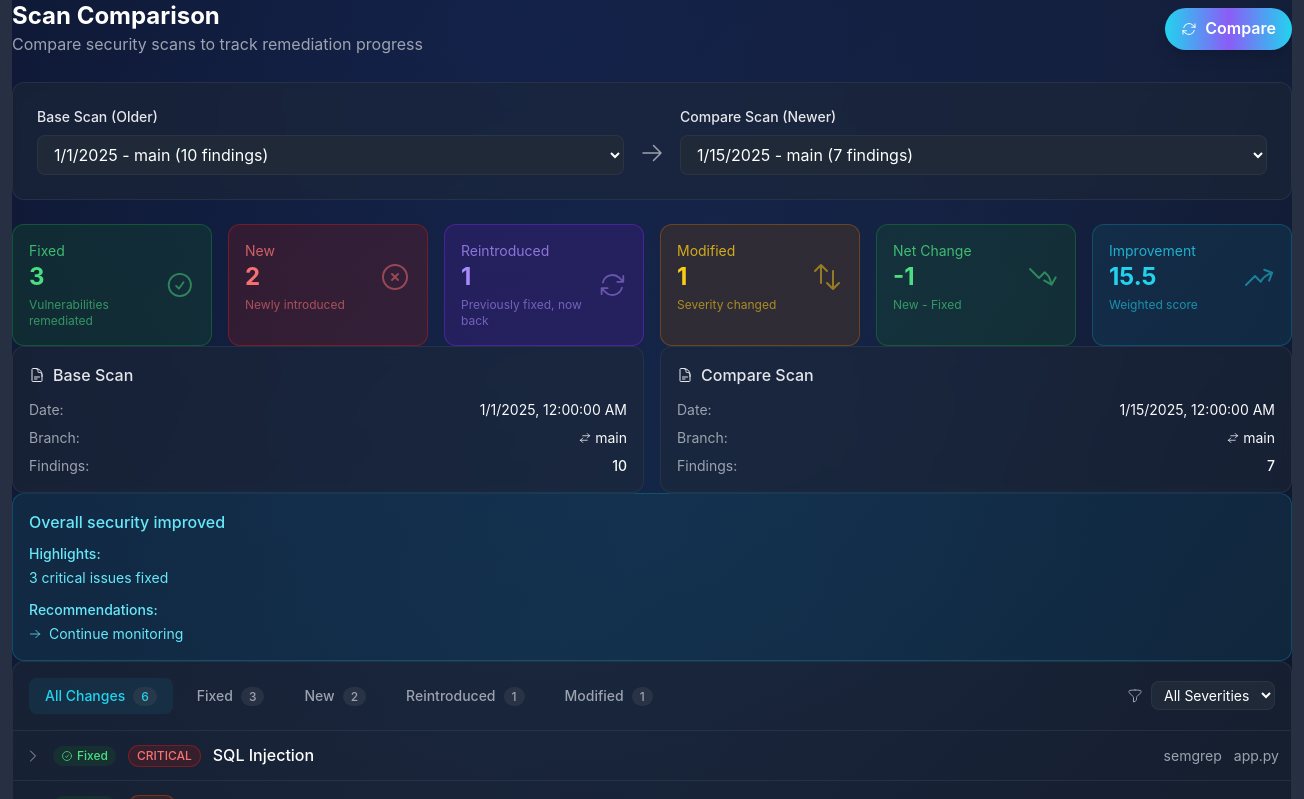
it: ScanComparison › filters findings by severity
The image size is (1304, 799).
Expected: the text "SQL Injection" is shown, [213,743,314,768]
Select "Critical" in the dropdown named "All Severities" below "1/15/2025, 12:00:00 AM": (1213,696) [1151,681,1275,710]
(page scrolled)
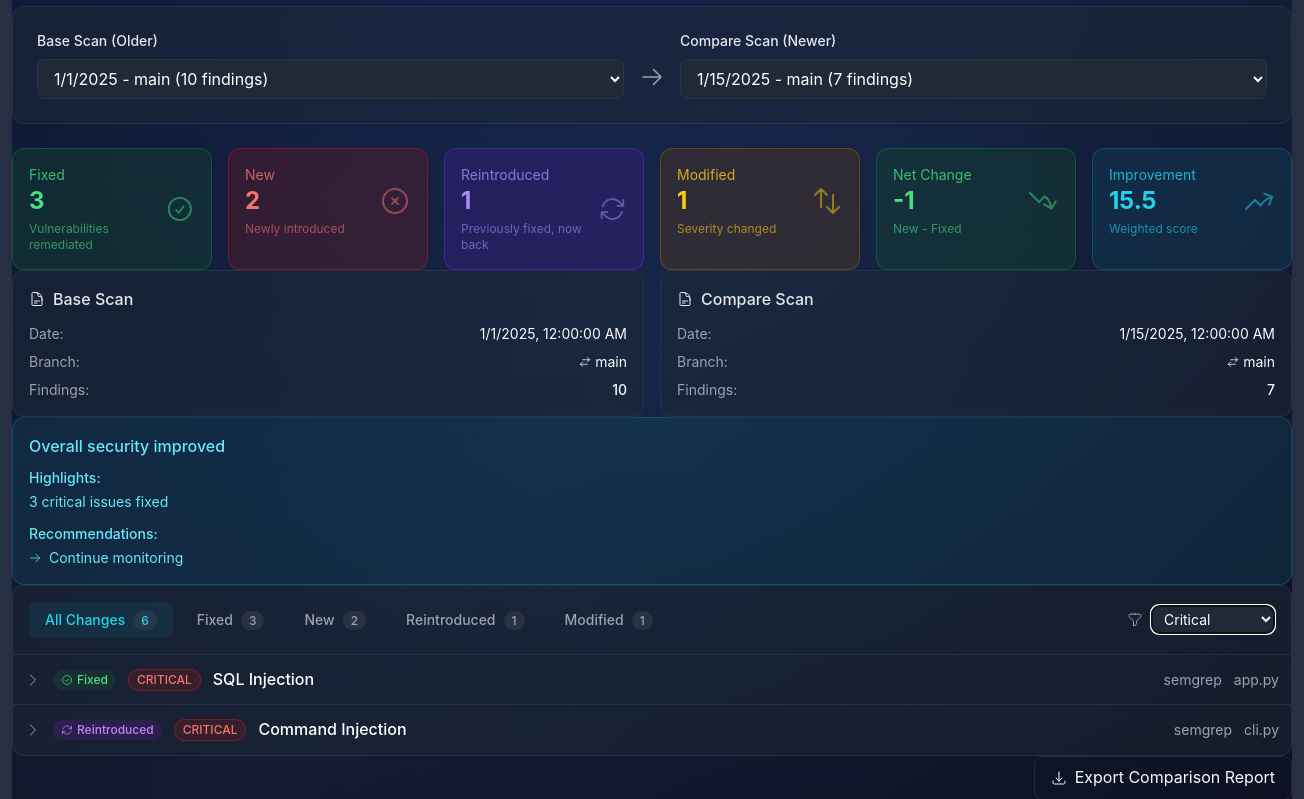
Expected: the text "SQL Injection" is shown, [213,667,314,692]
Expected: the text "Command Injection" is shown, [258,717,407,743]
